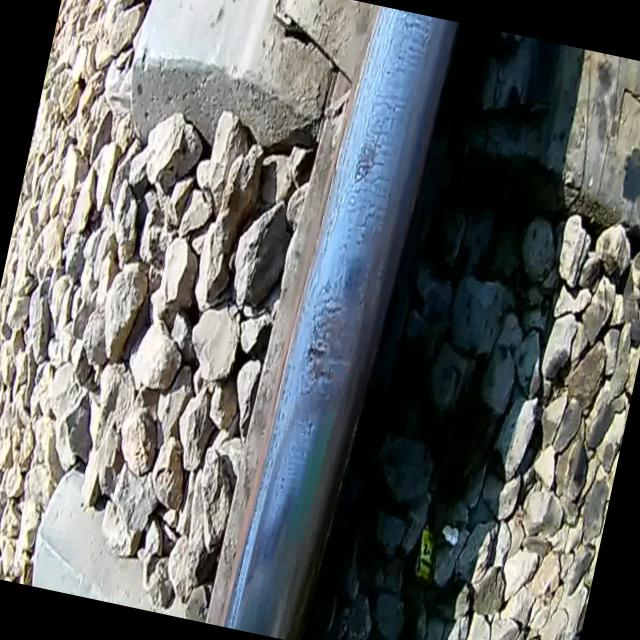Spallings: (289, 288, 362, 414)
Squats: (336, 246, 376, 310), (350, 137, 381, 186)
